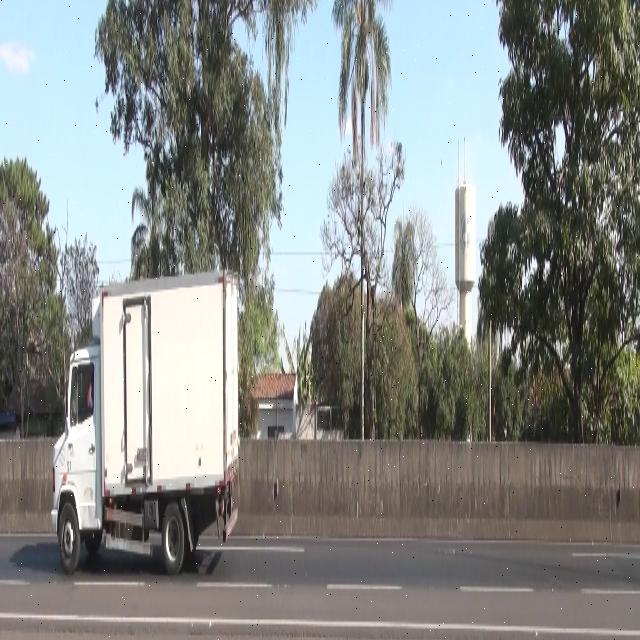-axle: (161, 504, 187, 575), (58, 499, 80, 574)
